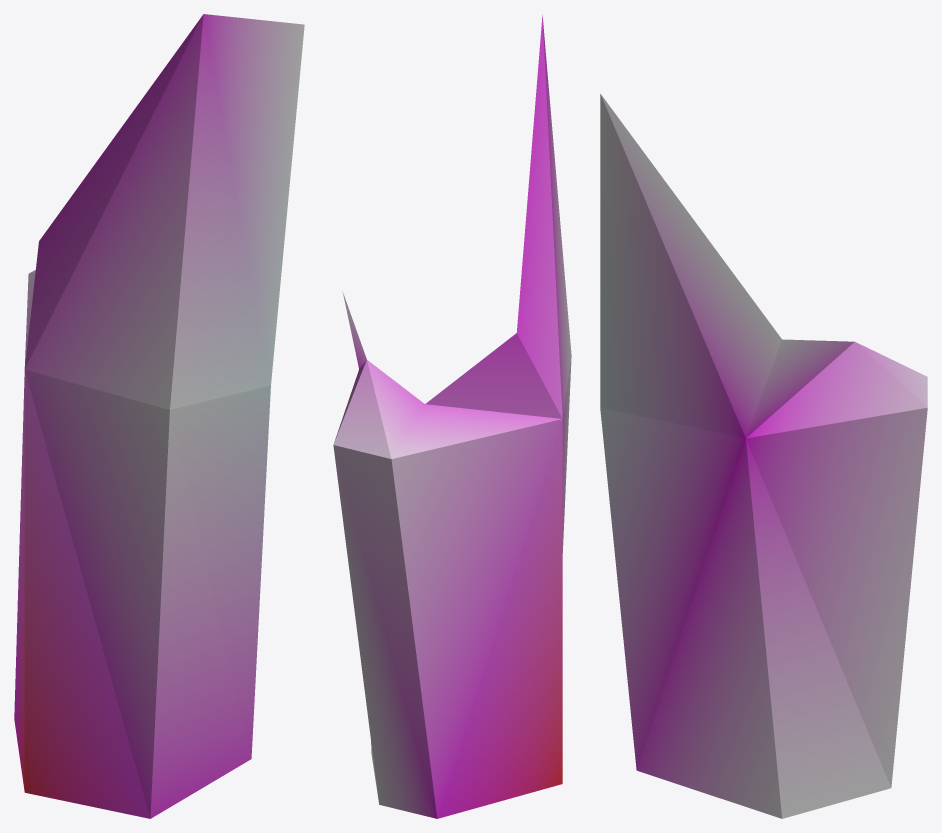
3 renders of one model, left to right at view 1: azimuth 30°, elevation 25°; view 2: azimuth 150°, elevation 25°; view 3: azimuth 270°, elevation 25°, orthographic. The views are drawn at different scales.
Parts seen in each view (by area): view 1: model_11CB; view 2: model_11CB; view 3: model_11CB.
Part boxes in pixels (bbox=[...]): model_11CB: bbox=[14, 14, 304, 818]; model_11CB: bbox=[333, 15, 571, 818]; model_11CB: bbox=[600, 94, 927, 818].
Bounding box in the file's own units: 7 × 23 × 9.
